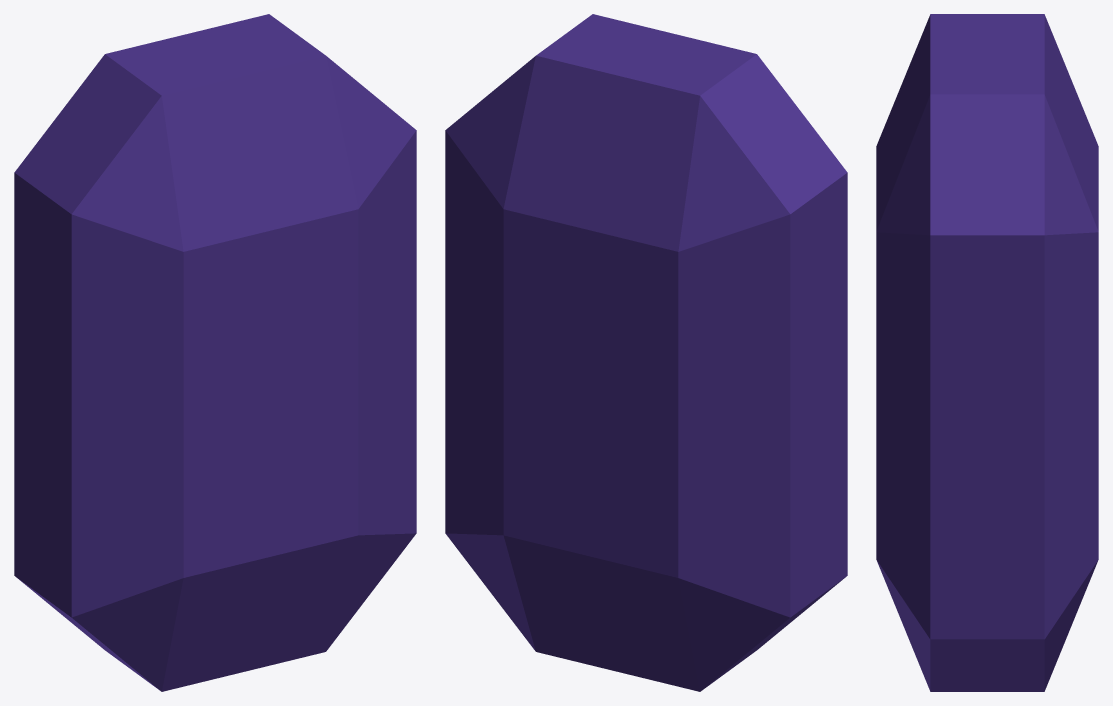
The model's file is nat_crystal_1.glb.
3 views of the same model, side by side, from view 1: azimuth 30°, elevation 25°; view 2: azimuth 150°, elevation 25°; view 3: azimuth 270°, elevation 25° (orthographic).
Parts seen in each view (by area): view 1: nat_crystal_1; view 2: nat_crystal_1; view 3: nat_crystal_1.
Part boxes in pixels (bbox=[...]): nat_crystal_1: bbox=[14, 14, 416, 691]; nat_crystal_1: bbox=[445, 14, 847, 691]; nat_crystal_1: bbox=[876, 14, 1098, 691].
Size of the model in its own units: 0.8478 by 1.4 by 0.4727.
